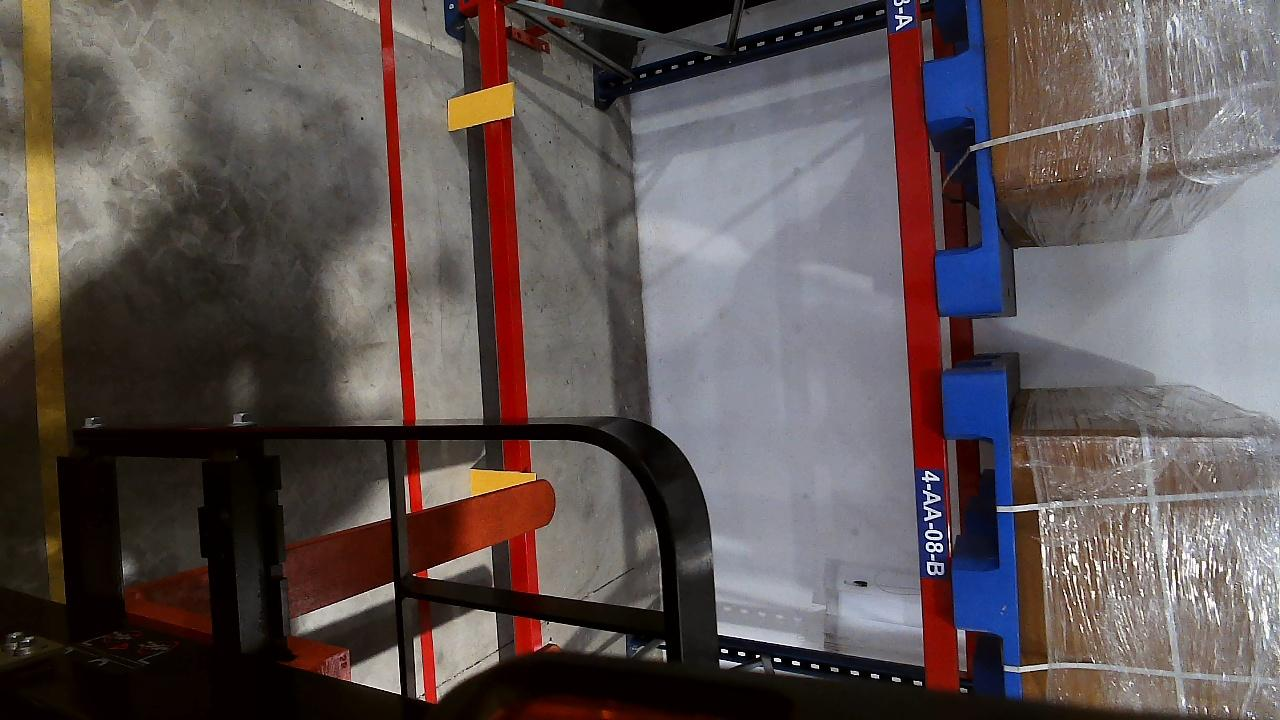h_rack: (883, 0, 953, 614), (472, 5, 525, 422)
orange_strip: (445, 83, 515, 129)
red_line: (378, 0, 418, 443)
small_pallet: (916, 1, 1007, 311), (942, 378, 1024, 690)
yellow_line: (17, 0, 66, 447)
